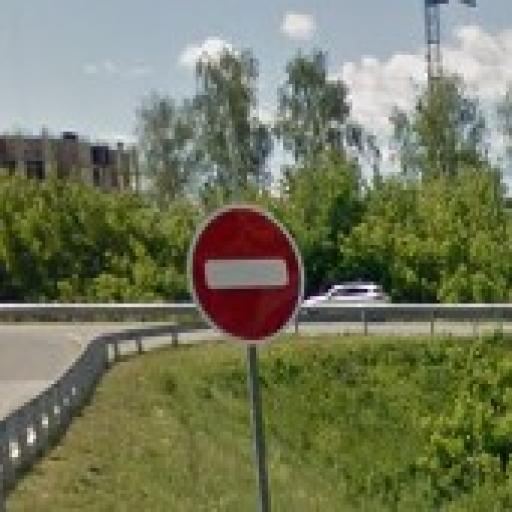traffic_sign: (188, 202, 305, 345)
